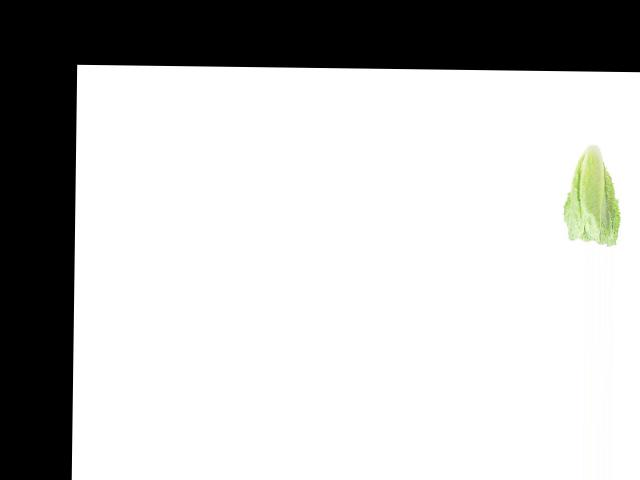lettuce: (559, 143, 626, 247)
